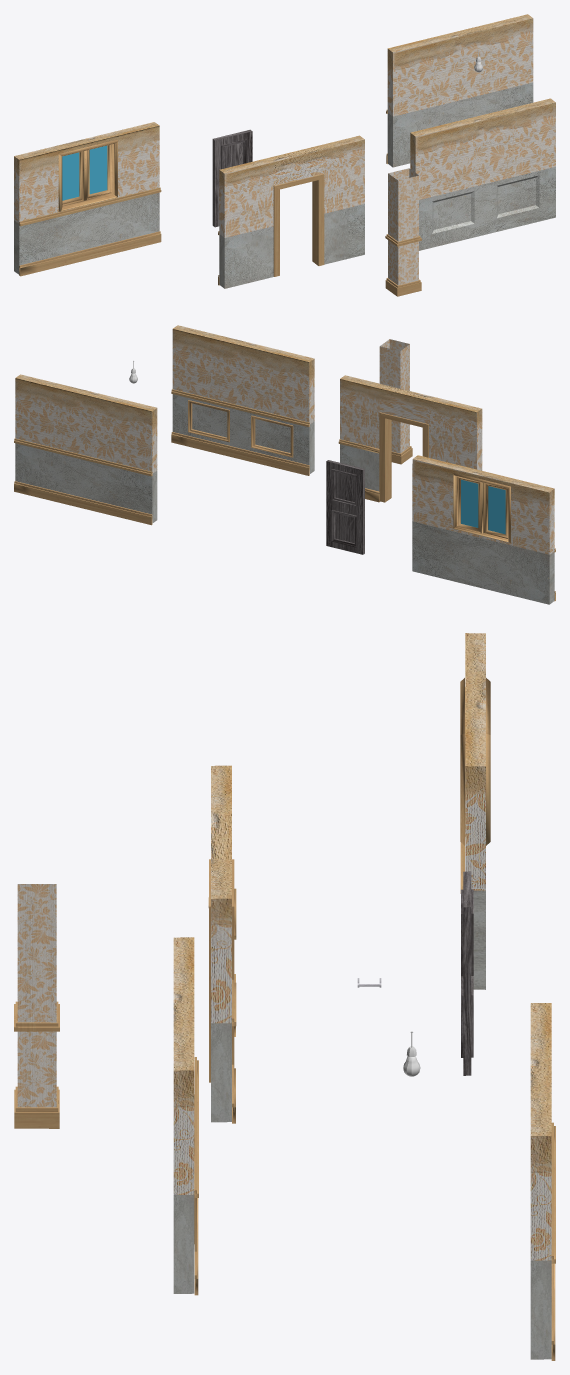
The model's file is ParedesDoCarai.fbx.
3 renders of one model, top to bottom at view 1: azimuth 30°, elevation 25°; view 2: azimuth 150°, elevation 25°; view 3: azimuth 270°, elevation 25°, orthographic. The views are drawn at different scales.
Parts seen in each view (by area): view 1: parque_CS.046, parque_CS.005, parede_sul_CO.060, parque_CS.055, parque_CS.045, porta_OP2.004; view 2: parque_CS.055, parque_CS.005, parque_CS.046, parede_sul_CO.060, porta_OP2.004, parque_CS.045; view 3: parque_CS.045, parque_CS.005, parque_CS.055, parede_sul_CO.060, parque_CS.046, porta_OP2.004.
Boxes of the visible parts, x1,y1,x2,y2 form: parque_CS.046: (14,122,161,276); parque_CS.005: (410,98,555,250); parede_sul_CO.060: (218,135,364,288); parque_CS.055: (386,14,533,167); parque_CS.045: (385,168,421,296); porta_OP2.004: (212,129,252,227); parque_CS.055: (14,374,157,525); parque_CS.005: (171,325,314,475); parque_CS.046: (412,455,555,604); parede_sul_CO.060: (340,375,482,502); porta_OP2.004: (326,460,364,554); parque_CS.045: (379,339,412,464); parque_CS.045: (14,884,59,1128); parque_CS.005: (173,937,198,1295); parque_CS.055: (530,1003,555,1360); parede_sul_CO.060: (208,765,236,1122); parque_CS.046: (460,633,490,989); porta_OP2.004: (461,871,473,1075).
Size of the model in its own units: 1517 by 349 by 691.
